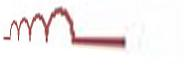inductor: (4, 4, 84, 46)
